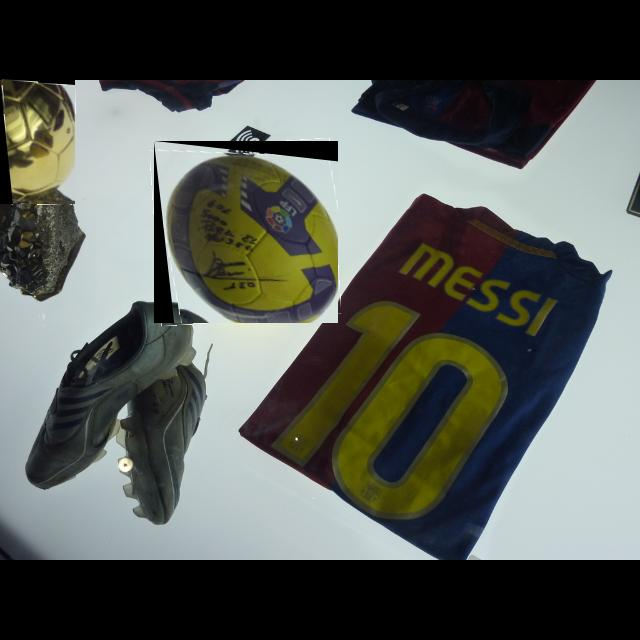Football: (154, 141, 338, 323), (0, 79, 75, 204)
